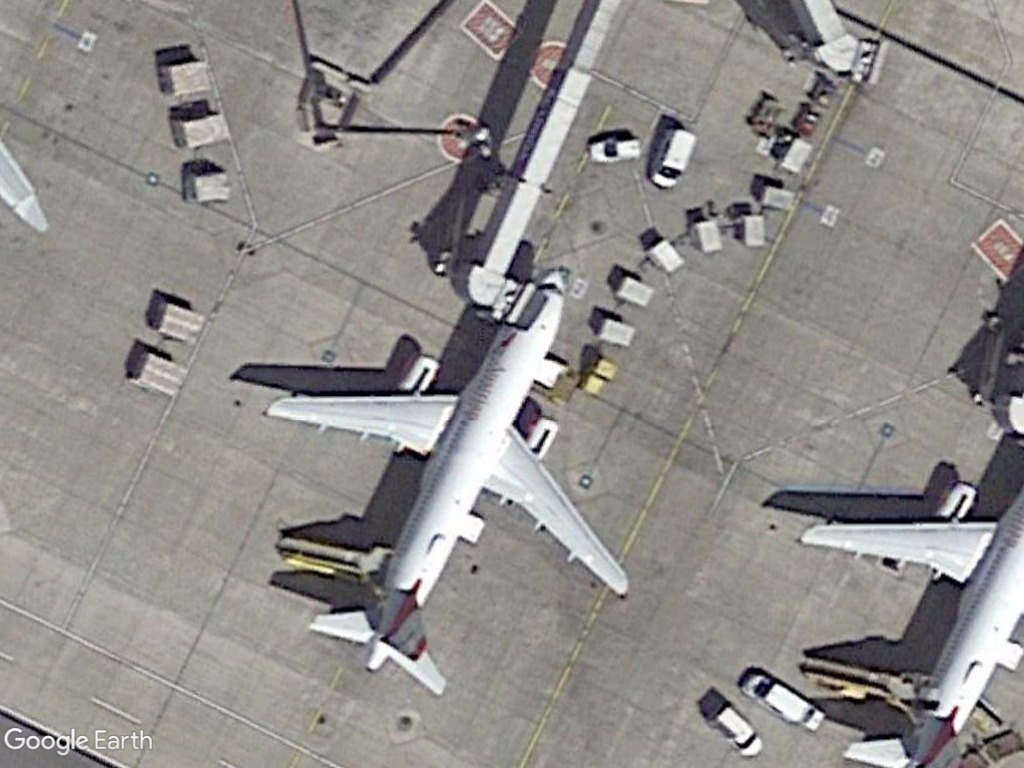airliner: (257, 261, 634, 696)
stairtruck: (272, 527, 393, 593)
van: (738, 669, 810, 728), (647, 125, 702, 191), (705, 703, 764, 758), (586, 134, 643, 168)
